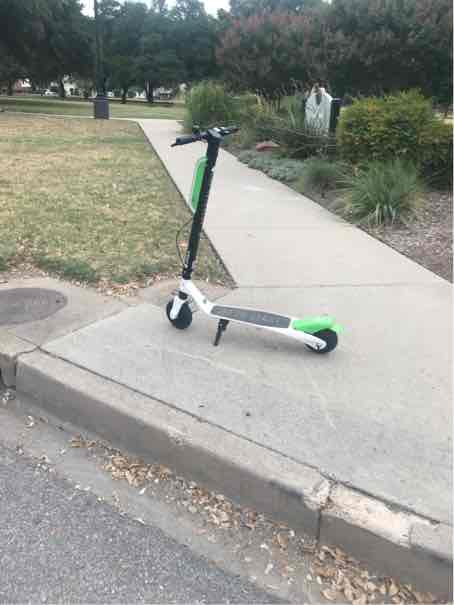scooter: (158, 114, 349, 366)
